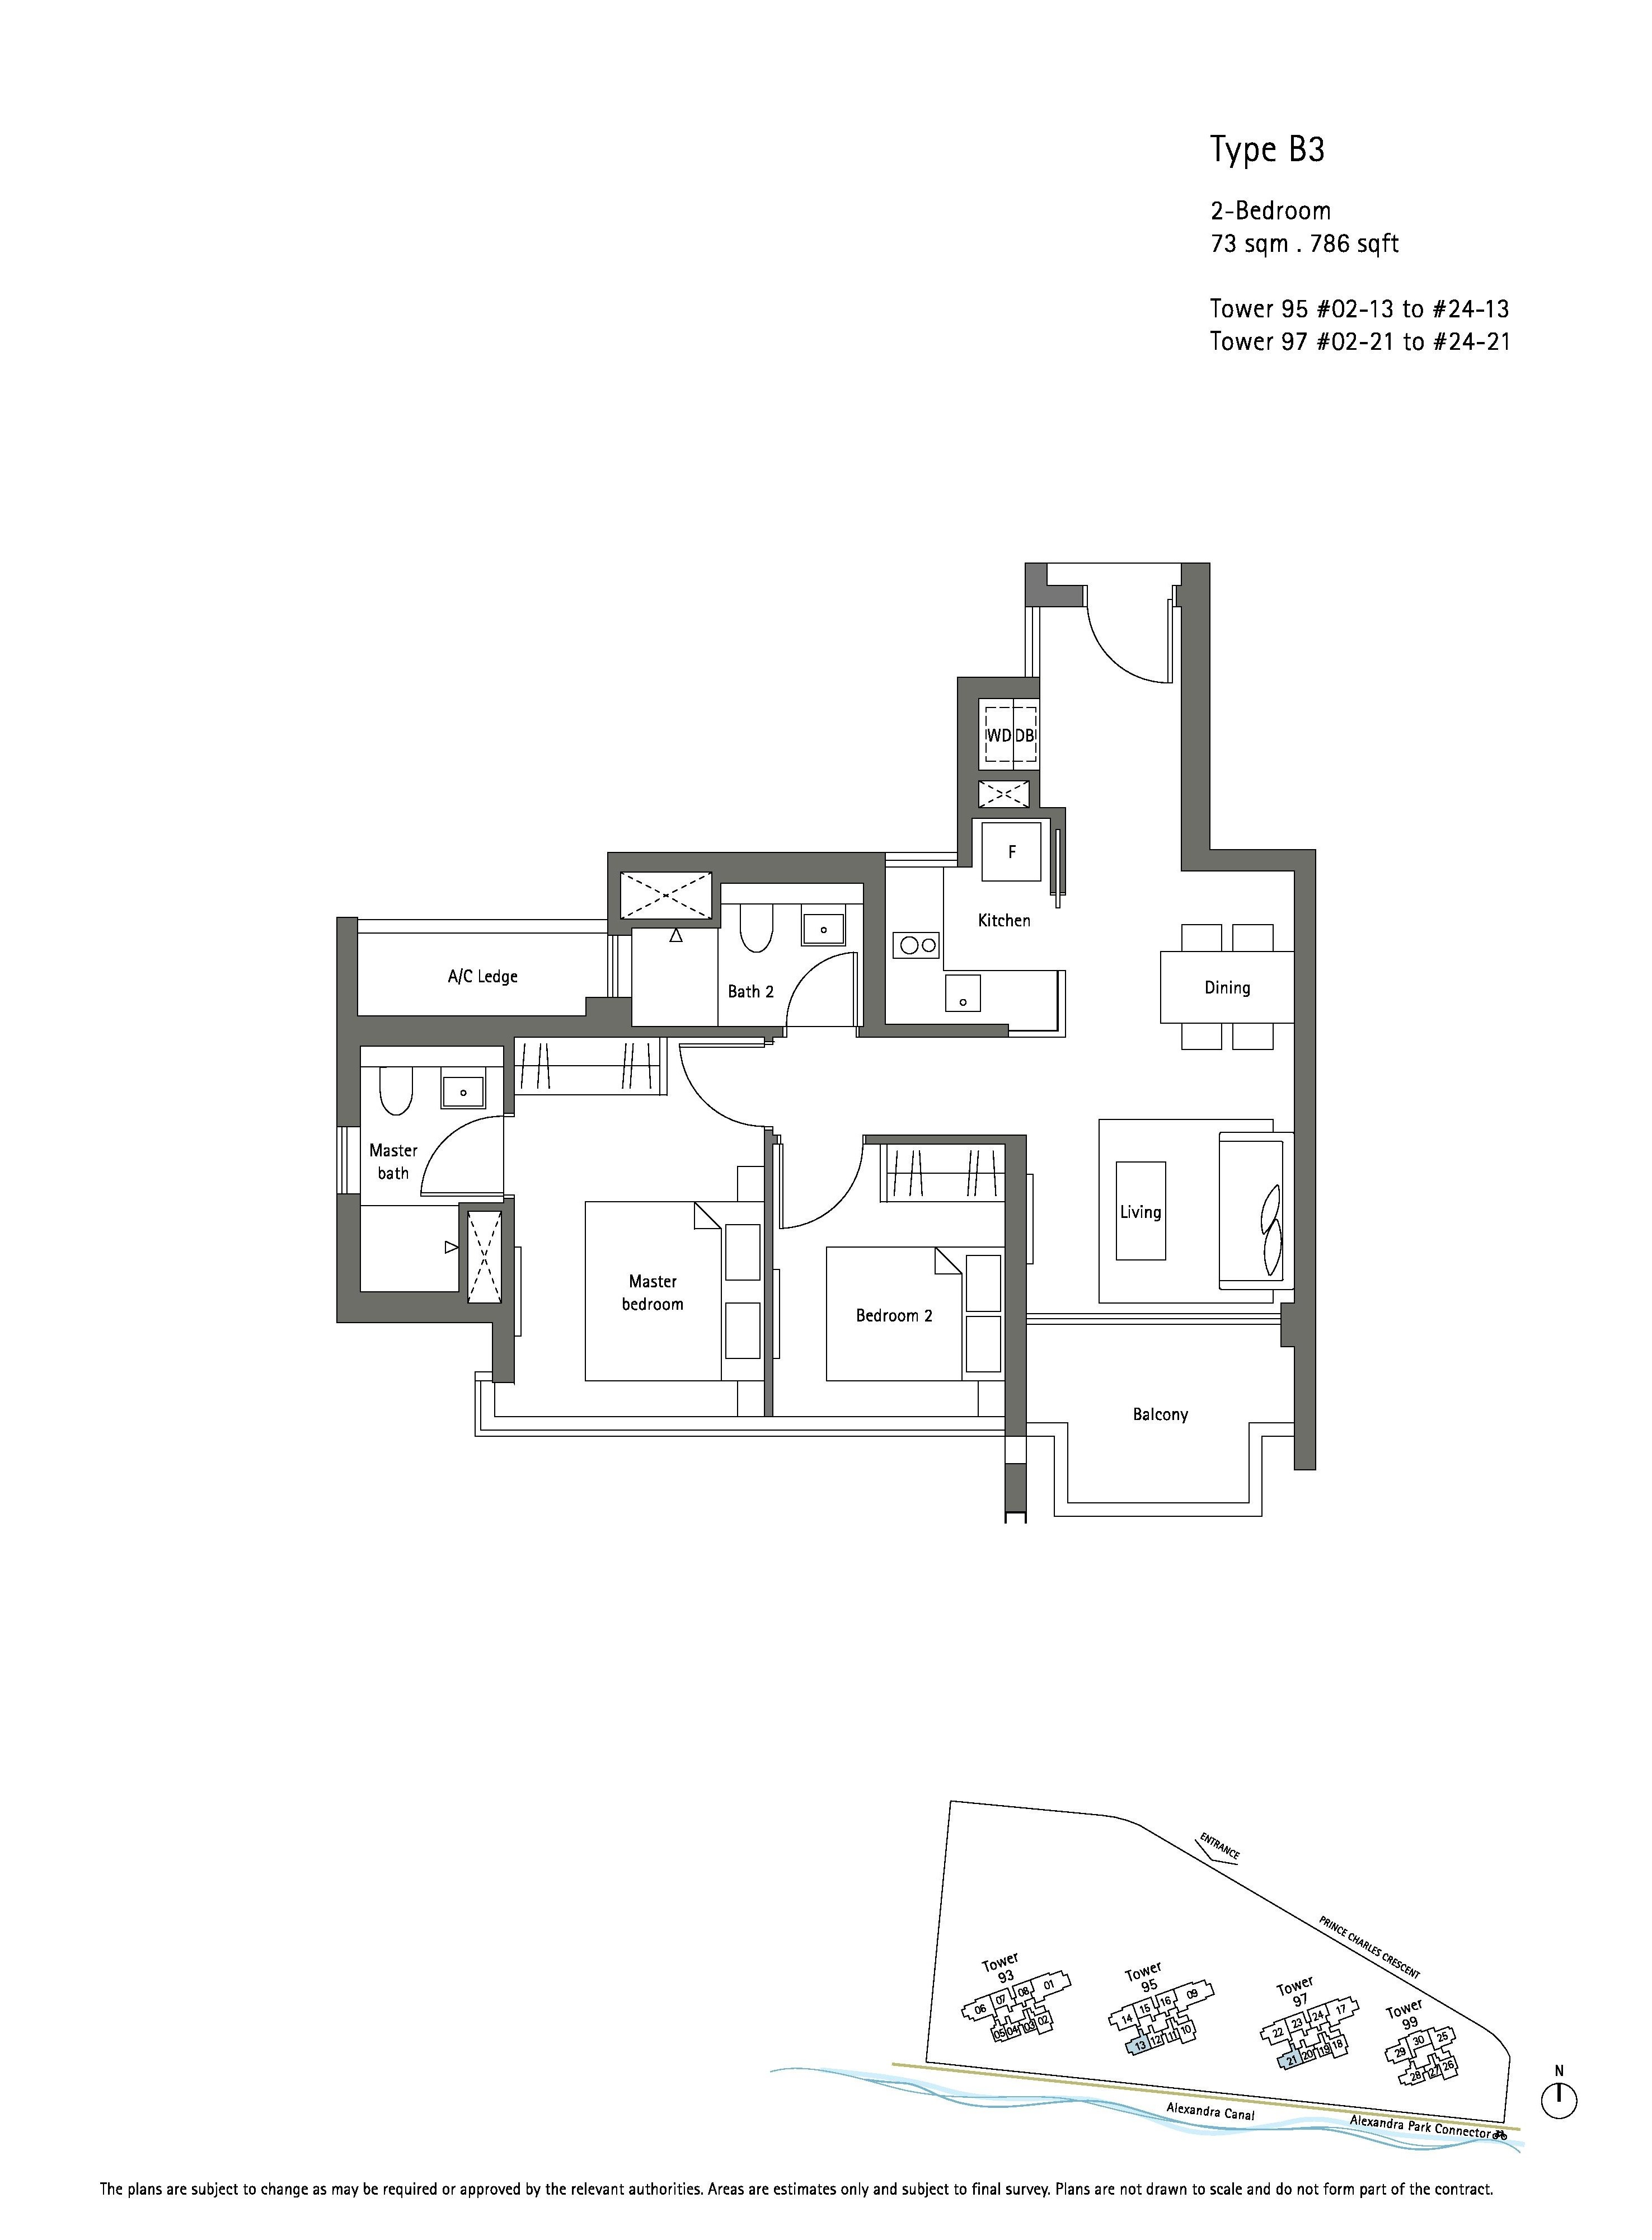window: (332, 1123, 363, 1197), (603, 932, 633, 1000), (883, 849, 960, 870), (1023, 603, 1043, 680)
